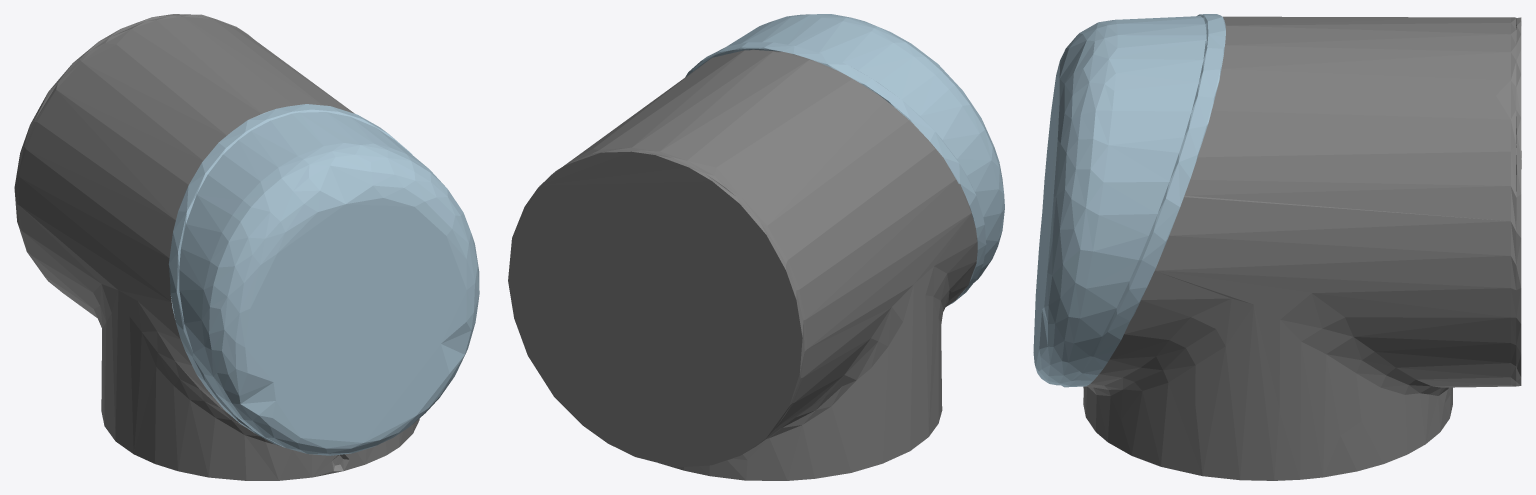
File: wrist2.dae
The picture shows the model from 3 angles, left to right: view 1: azimuth 30°, elevation 25°; view 2: azimuth 150°, elevation 25°; view 3: azimuth 270°, elevation 25°; orthographic projection. The views are drawn at different scales.
Parts seen in each view (by area): view 1: node-shape1-name, node-shape0-name; view 2: node-shape0-name, node-shape1-name; view 3: node-shape0-name, node-shape1-name.
Part boxes in pixels (<box>): node-shape1-name: <box>168,104,479,455</box>; node-shape0-name: <box>14,14,419,480</box>; node-shape0-name: <box>508,49,977,480</box>; node-shape1-name: <box>685,14,1004,305</box>; node-shape0-name: <box>1083,16,1521,480</box>; node-shape1-name: <box>1033,14,1225,387</box>.
Size of the model in its own units: 0.0908 by 0.1188 by 0.0998.
